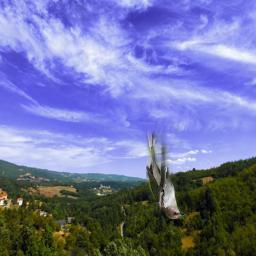Cuckoo: (146, 122, 186, 219)
